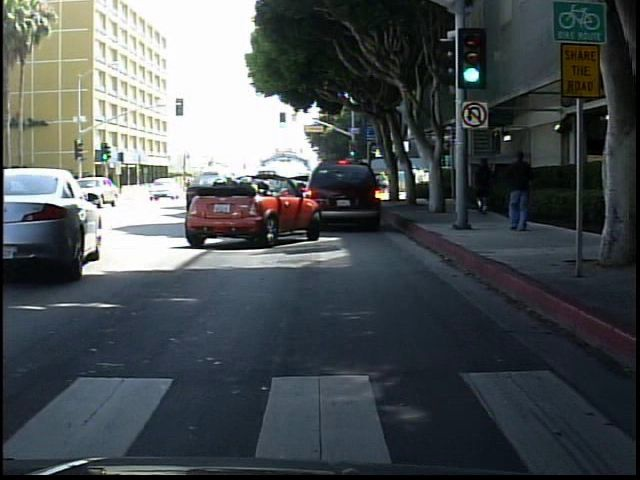person: (504, 143, 542, 237), (471, 150, 501, 219)
